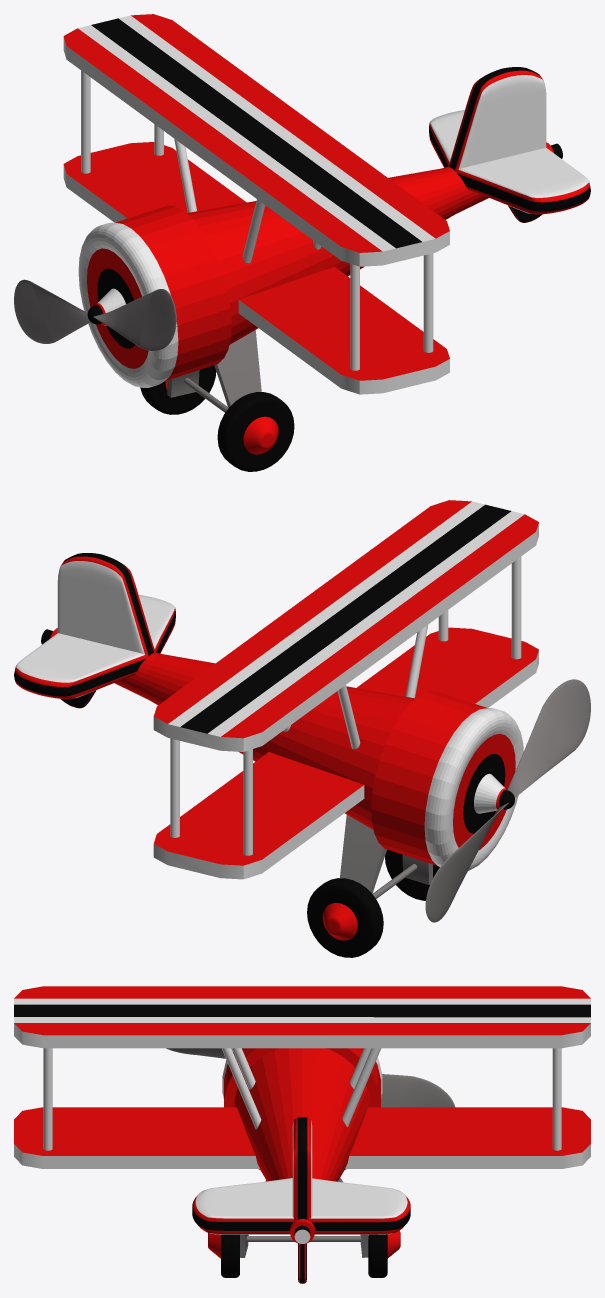
The picture shows the model from 3 angles, top to bottom: view 1: azimuth 30°, elevation 25°; view 2: azimuth 150°, elevation 25°; view 3: azimuth 270°, elevation 25°; orthographic projection. The views are drawn at different scales.
Visible parts, largest first — view 1: polySurface13, polySurface9, polySurface18, polySurface17, pCylinder5, polySurface15, pCylinder2, pCube7, pCylinder3, polySurface16, pCylinder7, pCylinder6 (+3 smaller); view 2: polySurface13, polySurface9, polySurface18, polySurface17, pCylinder5, polySurface16, pCylinder3, pCube12, polySurface15, pCylinder6, pCylinder9, pCylinder8 (+3 smaller); view 3: polySurface13, polySurface18, polySurface9, polySurface15, polySurface16, pCylinder5, polySurface17, pCylinder3, pCylinder2, pCylinder7, pCylinder8, pCylinder13 (+3 smaller).
Boxes of the visible parts, box(x1,y1,x2,y2) form: polySurface13: box(63, 14, 449, 266); polySurface9: box(78, 142, 562, 387); polySurface18: box(63, 142, 449, 394); polySurface17: box(448, 67, 546, 172); pCylinder5: box(14, 279, 176, 350); polySurface15: box(457, 147, 590, 214); pCylinder2: box(217, 392, 294, 471); pCube7: box(214, 330, 261, 407); pCylinder3: box(140, 365, 216, 414); polySurface16: box(429, 110, 464, 167); pCylinder7: box(423, 253, 433, 352); pCylinder6: box(350, 264, 359, 370); polySurface13: box(153, 500, 538, 751); polySurface9: box(41, 628, 523, 870); polySurface18: box(153, 627, 538, 879); polySurface17: box(57, 553, 155, 658); pCylinder5: box(425, 679, 590, 922); polySurface16: box(14, 633, 147, 698); pCylinder3: box(307, 878, 383, 957); pCube12: box(340, 815, 386, 893); polySurface15: box(138, 595, 175, 653); pCylinder6: box(511, 557, 521, 659); pCylinder9: box(243, 749, 252, 855); pCylinder8: box(170, 738, 179, 837); polySurface13: box(14, 986, 590, 1048); polySurface18: box(14, 1107, 590, 1168); polySurface9: box(222, 1048, 382, 1244); polySurface15: box(192, 1178, 293, 1234); polySurface16: box(309, 1178, 410, 1234); pCylinder5: box(166, 1048, 455, 1107); polySurface17: box(292, 1117, 312, 1221); pCylinder3: box(368, 1230, 400, 1277); pCylinder2: box(208, 1233, 239, 1277); pCylinder7: box(43, 1048, 52, 1150); pCylinder8: box(552, 1048, 561, 1150); pCylinder13: box(221, 1048, 261, 1129).
Size of the model in its own units: 16.93 by 10.21 by 18.82.
